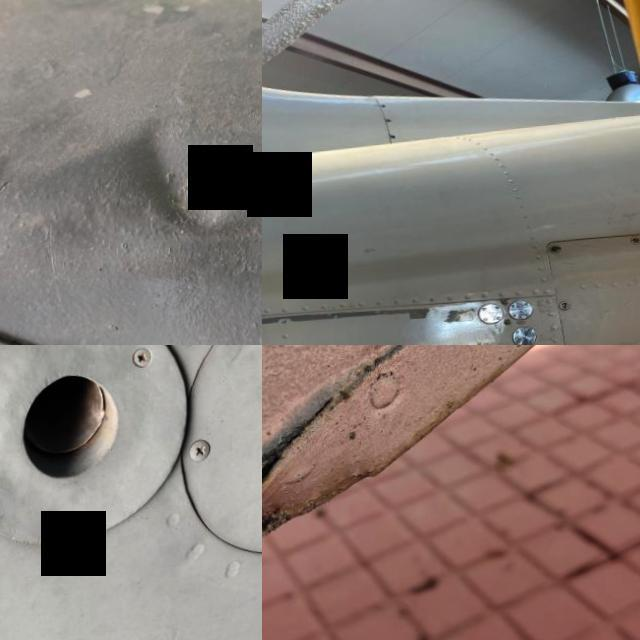Crack: (262, 407, 320, 593)
Dent: (116, 106, 254, 269)
Missing_Fastener: (381, 110, 388, 114)
